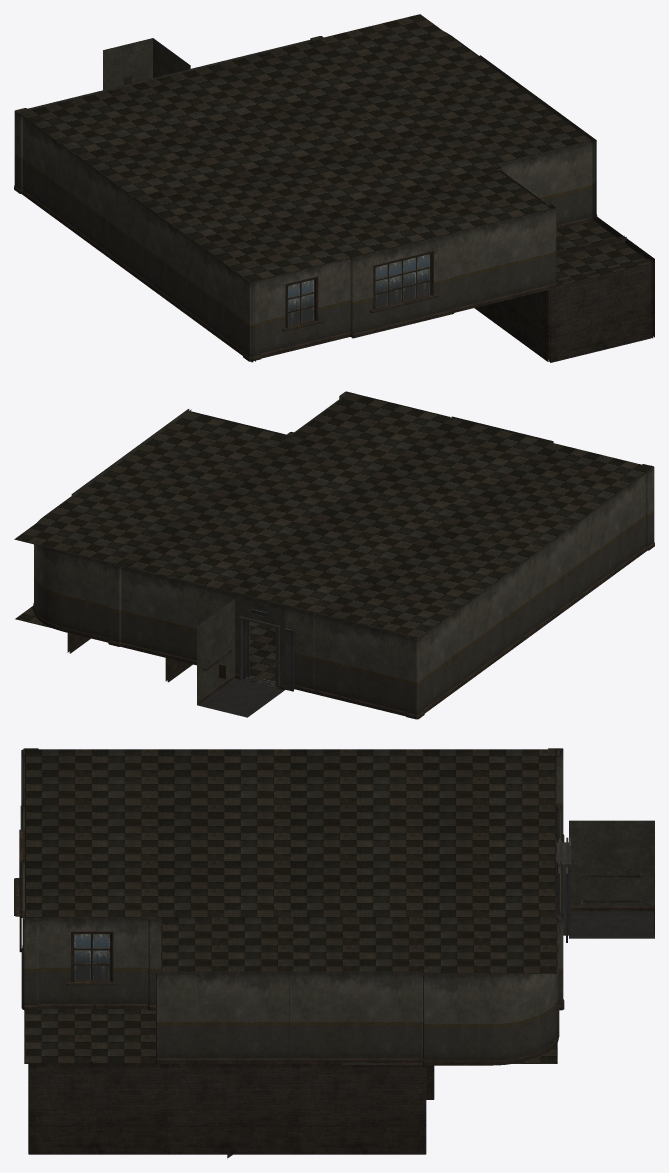
The model's file is level.glb.
The picture shows the model from 3 angles, top to bottom: view 1: azimuth 30°, elevation 25°; view 2: azimuth 150°, elevation 25°; view 3: azimuth 270°, elevation 25°; orthographic projection. The views are drawn at different scales.
Parts seen in each view (by area): view 1: Floor 1, wall_1.003, floor_ceiling_2.002, window_2_double.001, wall_1.004, wall_1_plain.003, window_2_single.002, wall_1.007, floor_ceiling_2.003, elevator_1.001, wall_1_plain.002, pillar_1.004 (+3 smaller); view 2: Floor 1, wall_1.003, floor_ceiling_2.002, wall_1.002, elevator_1.001, wall_1.001, wall_1_rounded_corner_1.001, elevator_doorway_1.001, pillar_1.002, pillar_1.001, pillar_1.004, elevator_door_2_b.001 (+1 smaller); view 3: Floor 1, wall_1_plain.001, wall_1.008, floor_ceiling_2.002, wall_1_rounded_corner_1.001, elevator_1.001, window_2_single.001, floor_ceiling_2.003, pillar_1.003, pillar_1.006, window_2_double.001, pillar_1.002 (+1 smaller).
Boxes of the visible parts, box(x1,y1,x2,y2) form: Floor 1: box(18, 39, 550, 358); wall_1.003: box(22, 116, 255, 362); floor_ceiling_2.002: box(319, 14, 591, 165); window_2_double.001: box(351, 233, 454, 338); wall_1.004: box(452, 208, 554, 312); wall_1_plain.003: box(549, 258, 651, 362); window_2_single.002: box(251, 258, 350, 357); wall_1.007: box(492, 141, 593, 229); floor_ceiling_2.003: box(556, 221, 651, 286); elevator_1.001: box(103, 38, 190, 90); wall_1_plain.002: box(474, 290, 548, 361); pillar_1.004: box(243, 276, 261, 361); Floor 1: box(116, 393, 652, 713); wall_1.003: box(417, 465, 652, 712); floor_ceiling_2.002: box(14, 412, 289, 564); wall_1.002: box(313, 613, 416, 716); elevator_1.001: box(197, 598, 285, 717); wall_1.001: box(113, 564, 215, 665); wall_1_rounded_corner_1.001: box(33, 496, 115, 642); elevator_doorway_1.001: box(213, 588, 315, 693); pillar_1.002: box(405, 632, 424, 719); pillar_1.001: box(108, 561, 125, 646); pillar_1.004: box(637, 464, 654, 550); elevator_door_2_b.001: box(275, 628, 293, 691); Floor 1: box(25, 749, 556, 917); wall_1_plain.001: box(28, 1063, 426, 1154); wall_1.008: box(155, 971, 423, 1063); floor_ceiling_2.002: box(161, 917, 557, 973); wall_1_rounded_corner_1.001: box(423, 918, 559, 1065); elevator_1.001: box(562, 820, 654, 938); window_2_single.001: box(25, 917, 159, 1008); floor_ceiling_2.003: box(24, 1009, 155, 1063); pillar_1.003: box(22, 913, 39, 1010); pillar_1.006: box(147, 913, 162, 1010); window_2_double.001: box(14, 805, 24, 952); pillar_1.002: box(548, 748, 564, 842).
Bounding box in the file's own units: 16.31 × 6.16 × 19.35.
45 materials, 45 textured.
